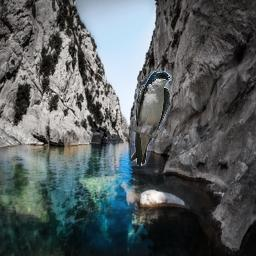Swallow: (131, 71, 172, 166)
